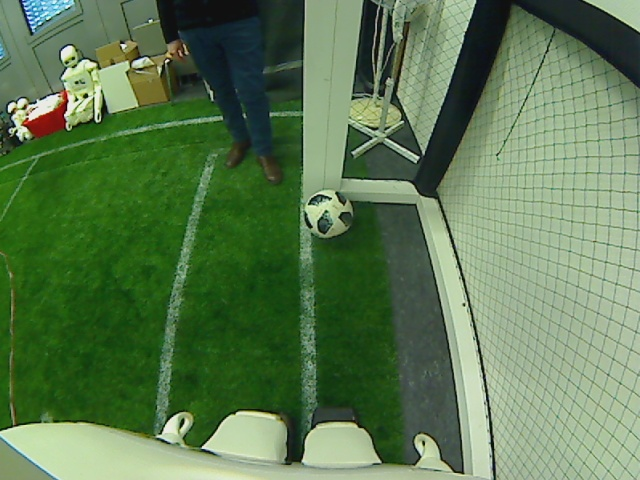ball: (304, 188, 354, 237)
